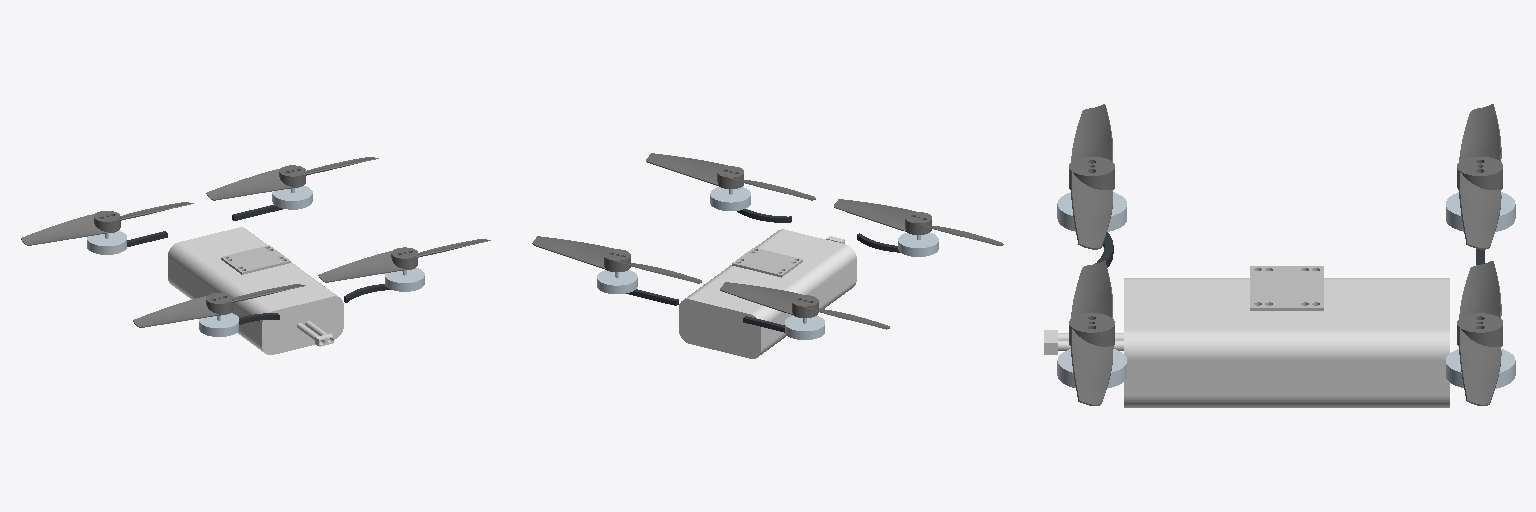
robot.urdf — drone:
<?xml version="1.0" ?>
<!-- Generated using onshape-to-robot -->
<!-- Onshape https://cad.onshape.com/documents/8c10e389dda3d1b6cbe23871/w/5a5746d77355e6e80cdff190/e/a8c47972b1a515a86b80b7ad -->
<robot name="drone">
  <!-- Link drone_frame -->
  <link name="drone_frame">
    <inertial>
      <origin xyz="1.90026e-06 -0.00157144 0.0380665" rpy="0 0 0"/>
      <mass value="0.152078"/>
      <inertia ixx="0.000115231" ixy="1.83252e-08" ixz="-1.57796e-09" iyy="4.83201e-05" iyz="3.25286e-06" izz="0.000140532"/>
    </inertial>
    <!-- Part front_wing -->
    <visual>
      <origin xyz="-0.0275 0.0439768 0.045" rpy="2.88643e-17 -2.79915e-17 5.69411e-19"/>
      <geometry>
        <mesh filename="package://f_drone_simulation/models/f_drone/assets/front_wing.stl"/>
      </geometry>
      <material name="front_wing_material">
        <color rgba="0.262745 0.282353 0.301961 1"/>
      </material>
    </visual>
    <collision>
      <origin xyz="-0.0275 0.0439768 0.045" rpy="2.88643e-17 -2.79915e-17 5.69411e-19"/>
      <geometry>
        <mesh filename="package://f_drone_simulation/models/f_drone/assets/front_wing.stl"/>
      </geometry>
    </collision>
    <!-- Part motor -->
    <visual>
      <origin xyz="-0.042 -0.0441359 0.047" rpy="1.27361e-18 -2.79915e-17 5.69408e-19"/>
      <geometry>
        <mesh filename="package://f_drone_simulation/models/f_drone/assets/motor.stl"/>
      </geometry>
      <material name="motor_material">
        <color rgba="0.811765 0.858824 0.898039 1"/>
      </material>
    </visual>
    <collision>
      <origin xyz="-0.042 -0.0441359 0.047" rpy="1.27361e-18 -2.79915e-17 5.69408e-19"/>
      <geometry>
        <mesh filename="package://f_drone_simulation/models/f_drone/assets/motor.stl"/>
      </geometry>
    </collision>
    <!-- Part motor_2 -->
    <visual>
      <origin xyz="0.042 0.0438641 0.047" rpy="1.91039e-18 -2.79915e-17 1.77888e-16"/>
      <geometry>
        <mesh filename="package://f_drone_simulation/models/f_drone/assets/motor.stl"/>
      </geometry>
      <material name="motor_2_material">
        <color rgba="0.811765 0.858824 0.898039 1"/>
      </material>
    </visual>
    <collision>
      <origin xyz="0.042 0.0438641 0.047" rpy="1.91039e-18 -2.79915e-17 1.77888e-16"/>
      <geometry>
        <mesh filename="package://f_drone_simulation/models/f_drone/assets/motor.stl"/>
      </geometry>
    </collision>
    <!-- Part leg -->
    <visual>
      <origin xyz="-0.0284228 -0.0451679 -0.00251155" rpy="1.5708 6.3681e-19 -1.5708"/>
      <geometry>
        <mesh filename="package://f_drone_simulation/models/f_drone/assets/leg.stl"/>
      </geometry>
      <material name="leg_material">
        <color rgba="0.372549 0.654902 0.239216 1"/>
      </material>
    </visual>
    <collision>
      <origin xyz="-0.0284228 -0.0451679 -0.00251155" rpy="1.5708 6.3681e-19 -1.5708"/>
      <geometry>
        <mesh filename="package://f_drone_simulation/models/f_drone/assets/leg.stl"/>
      </geometry>
    </collision>
    <!-- Part back_wing -->
    <visual>
      <origin xyz="-0.0275 -0.0440232 0.045" rpy="2.88643e-17 -2.79915e-17 5.69411e-19"/>
      <geometry>
        <mesh filename="package://f_drone_simulation/models/f_drone/assets/back_wing.stl"/>
      </geometry>
      <material name="back_wing_material">
        <color rgba="0.262745 0.282353 0.301961 1"/>
      </material>
    </visual>
    <collision>
      <origin xyz="-0.0275 -0.0440232 0.045" rpy="2.88643e-17 -2.79915e-17 5.69411e-19"/>
      <geometry>
        <mesh filename="package://f_drone_simulation/models/f_drone/assets/back_wing.stl"/>
      </geometry>
    </collision>
    <!-- Part motor_3 -->
    <visual>
      <origin xyz="-0.042 0.0438641 0.047" rpy="1.27361e-18 -2.79915e-17 5.69408e-19"/>
      <geometry>
        <mesh filename="package://f_drone_simulation/models/f_drone/assets/motor.stl"/>
      </geometry>
      <material name="motor_3_material">
        <color rgba="0.811765 0.858824 0.898039 1"/>
      </material>
    </visual>
    <collision>
      <origin xyz="-0.042 0.0438641 0.047" rpy="1.27361e-18 -2.79915e-17 5.69408e-19"/>
      <geometry>
        <mesh filename="package://f_drone_simulation/models/f_drone/assets/motor.stl"/>
      </geometry>
    </collision>
    <!-- Part custom_pcb -->
    <visual>
      <origin xyz="1.13217e-18 -1.82206e-18 0.047" rpy="1.98523e-23 -2.79915e-17 5.69408e-19"/>
      <geometry>
        <mesh filename="package://f_drone_simulation/models/f_drone/assets/custom_pcb.stl"/>
      </geometry>
      <material name="custom_pcb_material">
        <color rgba="0.913725 0.647059 0.329412 1"/>
      </material>
    </visual>
    <collision>
      <origin xyz="1.13217e-18 -1.82206e-18 0.047" rpy="1.98523e-23 -2.79915e-17 5.69408e-19"/>
      <geometry>
        <mesh filename="package://f_drone_simulation/models/f_drone/assets/custom_pcb.stl"/>
      </geometry>
    </collision>
    <!-- Part back_wing_2 -->
    <visual>
      <origin xyz="0.0275 -0.0440232 0.047" rpy="3.14159 2.79915e-17 -3.14159"/>
      <geometry>
        <mesh filename="package://f_drone_simulation/models/f_drone/assets/back_wing.stl"/>
      </geometry>
      <material name="back_wing_2_material">
        <color rgba="0.262745 0.282353 0.301961 1"/>
      </material>
    </visual>
    <collision>
      <origin xyz="0.0275 -0.0440232 0.047" rpy="3.14159 2.79915e-17 -3.14159"/>
      <geometry>
        <mesh filename="package://f_drone_simulation/models/f_drone/assets/back_wing.stl"/>
      </geometry>
    </collision>
    <!-- Part leg_2 -->
    <visual>
      <origin xyz="0.0334228 0.0408641 -0.00251155" rpy="1.5708 1.27359e-18 -1.5708"/>
      <geometry>
        <mesh filename="package://f_drone_simulation/models/f_drone/assets/leg.stl"/>
      </geometry>
      <material name="leg_2_material">
        <color rgba="0.372549 0.654902 0.239216 1"/>
      </material>
    </visual>
    <collision>
      <origin xyz="0.0334228 0.0408641 -0.00251155" rpy="1.5708 1.27359e-18 -1.5708"/>
      <geometry>
        <mesh filename="package://f_drone_simulation/models/f_drone/assets/leg.stl"/>
      </geometry>
    </collision>
    <!-- Part drone_frame -->
    <visual>
      <origin xyz="-5.03395e-18 -0.000135894 0.045" rpy="1.01888e-17 -2.23932e-16 4.55532e-18"/>
      <geometry>
        <mesh filename="package://f_drone_simulation/models/f_drone/assets/drone_frame.stl"/>
      </geometry>
      <material name="drone_frame_material">
        <color rgba="0.262745 0.282353 0.301961 1"/>
      </material>
    </visual>
    <collision>
      <origin xyz="-5.03395e-18 -0.000135894 0.045" rpy="1.01888e-17 -2.23932e-16 4.55532e-18"/>
      <geometry>
        <mesh filename="package://f_drone_simulation/models/f_drone/assets/drone_frame.stl"/>
      </geometry>
    </collision>
    <!-- Part mcu -->
    <visual>
      <origin xyz="4.73078e-19 0.0268931 0.04857" rpy="-2.75907e-17 -2.79915e-17 5.69405e-19"/>
      <geometry>
        <mesh filename="package://f_drone_simulation/models/f_drone/assets/mcu.stl"/>
      </geometry>
      <material name="mcu_material">
        <color rgba="0.372549 0.654902 0.239216 1"/>
      </material>
    </visual>
    <collision>
      <origin xyz="4.73078e-19 0.0268931 0.04857" rpy="-2.75907e-17 -2.79915e-17 5.69405e-19"/>
      <geometry>
        <mesh filename="package://f_drone_simulation/models/f_drone/assets/mcu.stl"/>
      </geometry>
    </collision>
    <!-- Part 2s_battery -->
    <visual>
      <origin xyz="-1.50777e-18 1.63604e-18 0.026" rpy="1.98523e-23 -2.79915e-17 5.69408e-19"/>
      <geometry>
        <mesh filename="package://f_drone_simulation/models/f_drone/assets/2s_battery.stl"/>
      </geometry>
      <material name="2s_battery_material">
        <color rgba="0.901961 0.901961 0.901961 1"/>
      </material>
    </visual>
    <collision>
      <origin xyz="-1.50777e-18 1.63604e-18 0.026" rpy="1.98523e-23 -2.79915e-17 5.69408e-19"/>
      <geometry>
        <mesh filename="package://f_drone_simulation/models/f_drone/assets/2s_battery.stl"/>
      </geometry>
    </collision>
    <!-- Part esc -->
    <visual>
      <origin xyz="1.51785e-19 -0.03 0.04857" rpy="-2.75907e-17 -2.79915e-17 5.69405e-19"/>
      <geometry>
        <mesh filename="package://f_drone_simulation/models/f_drone/assets/esc.stl"/>
      </geometry>
      <material name="esc_material">
        <color rgba="0.262745 0.282353 0.301961 1"/>
      </material>
    </visual>
    <collision>
      <origin xyz="1.51785e-19 -0.03 0.04857" rpy="-2.75907e-17 -2.79915e-17 5.69405e-19"/>
      <geometry>
        <mesh filename="package://f_drone_simulation/models/f_drone/assets/esc.stl"/>
      </geometry>
    </collision>
    <!-- Part imu -->
    <visual>
      <origin xyz="3.46389e-19 0.000318293 0.05157" rpy="1.5708 2.64698e-23 -1.5708"/>
      <geometry>
        <mesh filename="package://f_drone_simulation/models/f_drone/assets/imu.stl"/>
      </geometry>
      <material name="imu_material">
        <color rgba="0 0 0.784314 1"/>
      </material>
    </visual>
    <collision>
      <origin xyz="3.46389e-19 0.000318293 0.05157" rpy="1.5708 2.64698e-23 -1.5708"/>
      <geometry>
        <mesh filename="package://f_drone_simulation/models/f_drone/assets/imu.stl"/>
      </geometry>
    </collision>
    <!-- Part front_wing_2 -->
    <visual>
      <origin xyz="0.0275 0.0439768 0.047" rpy="3.14159 2.79915e-17 -3.14159"/>
      <geometry>
        <mesh filename="package://f_drone_simulation/models/f_drone/assets/front_wing.stl"/>
      </geometry>
      <material name="front_wing_2_material">
        <color rgba="0.262745 0.282353 0.301961 1"/>
      </material>
    </visual>
    <collision>
      <origin xyz="0.0275 0.0439768 0.047" rpy="3.14159 2.79915e-17 -3.14159"/>
      <geometry>
        <mesh filename="package://f_drone_simulation/models/f_drone/assets/front_wing.stl"/>
      </geometry>
    </collision>
    <!-- Part leg_3 -->
    <visual>
      <origin xyz="0.0334228 -0.0451679 -0.00251155" rpy="1.5708 1.27359e-18 -1.5708"/>
      <geometry>
        <mesh filename="package://f_drone_simulation/models/f_drone/assets/leg.stl"/>
      </geometry>
      <material name="leg_3_material">
        <color rgba="0.372549 0.654902 0.239216 1"/>
      </material>
    </visual>
    <collision>
      <origin xyz="0.0334228 -0.0451679 -0.00251155" rpy="1.5708 1.27359e-18 -1.5708"/>
      <geometry>
        <mesh filename="package://f_drone_simulation/models/f_drone/assets/leg.stl"/>
      </geometry>
    </collision>
    <!-- Part main001 -->
    <visual>
      <origin xyz="-0.0110515 0.00840087 0.04957" rpy="3.14159 -2.79915e-17 5.69405e-19"/>
      <geometry>
        <mesh filename="package://f_drone_simulation/models/f_drone/assets/main001.stl"/>
      </geometry>
      <material name="main001_material">
        <color rgba="0.8 0.8 0.8 1"/>
      </material>
    </visual>
    <collision>
      <origin xyz="-0.0110515 0.00840087 0.04957" rpy="3.14159 -2.79915e-17 5.69405e-19"/>
      <geometry>
        <mesh filename="package://f_drone_simulation/models/f_drone/assets/main001.stl"/>
      </geometry>
    </collision>
    <!-- Part leg_4 -->
    <visual>
      <origin xyz="-0.0284228 0.0408641 -0.00251155" rpy="1.5708 6.3681e-19 -1.5708"/>
      <geometry>
        <mesh filename="package://f_drone_simulation/models/f_drone/assets/leg.stl"/>
      </geometry>
      <material name="leg_4_material">
        <color rgba="0.372549 0.654902 0.239216 1"/>
      </material>
    </visual>
    <collision>
      <origin xyz="-0.0284228 0.0408641 -0.00251155" rpy="1.5708 6.3681e-19 -1.5708"/>
      <geometry>
        <mesh filename="package://f_drone_simulation/models/f_drone/assets/leg.stl"/>
      </geometry>
    </collision>
    <!-- Part motor_4 -->
    <visual>
      <origin xyz="0.042 -0.0441359 0.047" rpy="1.91039e-18 -2.79915e-17 1.77888e-16"/>
      <geometry>
        <mesh filename="package://f_drone_simulation/models/f_drone/assets/motor.stl"/>
      </geometry>
      <material name="motor_4_material">
        <color rgba="0.811765 0.858824 0.898039 1"/>
      </material>
    </visual>
    <collision>
      <origin xyz="0.042 -0.0441359 0.047" rpy="1.91039e-18 -2.79915e-17 1.77888e-16"/>
      <geometry>
        <mesh filename="package://f_drone_simulation/models/f_drone/assets/motor.stl"/>
      </geometry>
    </collision>
  </link>
  <!-- Frame base_link (dummy link + fixed joint) -->
  <link name="base_link">
    <origin xyz="0 0 0" rpy="0 -0 0"/>
    <inertial>
      <origin xyz="0 0 0" rpy="0 0 0"/>
      <mass value="1e-9"/>
      <inertia ixx="0" ixy="0" ixz="0" iyy="0" iyz="0" izz="0"/>
    </inertial>
  </link>
  <joint name="base_link_frame" type="fixed">
    <origin xyz="4.27546e-19 1.50726e-19 0.04857" rpy="1.98523e-23 -2.79915e-17 5.69408e-19"/>
    <parent link="drone_frame"/>
    <child link="base_link"/>
    <axis xyz="0 0 0"/>
  </joint>
  <!-- Link prop -->
  <link name="prop">
    <inertial>
      <origin xyz="3.77138e-15 1.04879e-15 -9.46113e-05" rpy="0 0 0"/>
      <mass value="0.000758683"/>
      <inertia ixx="6.58743e-09" ixy="1.73562e-09" ixz="0" iyy="1.27556e-07" iyz="0" izz="1.31648e-07"/>
    </inertial>
    <!-- Part prop -->
    <visual>
      <origin xyz="0 -6.93889e-18 0" rpy="1.5708 -0 -2.86726e-34"/>
      <geometry>
        <mesh filename="package://f_drone_simulation/models/f_drone/assets/prop.stl"/>
      </geometry>
      <material name="prop_material">
        <color rgba="0.501961 0.501961 0.501961 1"/>
      </material>
    </visual>
    <collision>
      <origin xyz="0 -6.93889e-18 0" rpy="1.5708 -0 -2.86726e-34"/>
      <geometry>
        <mesh filename="package://f_drone_simulation/models/f_drone/assets/prop.stl"/>
      </geometry>
    </collision>
  </link>
  <!-- Joint from drone_frame to prop -->
  <joint name="motor_prop_1" type="revolute">
    <origin xyz="-0.042 -0.0442159 0.057625" rpy="8.78666e-17 -6.99788e-17 3.69828e-18"/>
    <parent link="drone_frame"/>
    <child link="prop"/>
    <axis xyz="0 0 1"/>
    <limit effort="10" velocity="10" lower="-3.141592653589793" upper="3.141592653589793"/>
  </joint>
  <!-- Link prop_2 -->
  <link name="prop_2">
    <inertial>
      <origin xyz="3.77138e-15 1.06267e-15 -9.46113e-05" rpy="0 0 0"/>
      <mass value="0.000758683"/>
      <inertia ixx="6.58743e-09" ixy="1.73562e-09" ixz="0" iyy="1.27556e-07" iyz="0" izz="1.31648e-07"/>
    </inertial>
    <!-- Part prop_2 -->
    <visual>
      <origin xyz="0 6.93889e-18 0" rpy="1.5708 -0 1.33312e-34"/>
      <geometry>
        <mesh filename="package://f_drone_simulation/models/f_drone/assets/prop.stl"/>
      </geometry>
      <material name="prop_2_material">
        <color rgba="0.501961 0.501961 0.501961 1"/>
      </material>
    </visual>
    <collision>
      <origin xyz="0 6.93889e-18 0" rpy="1.5708 -0 1.33312e-34"/>
      <geometry>
        <mesh filename="package://f_drone_simulation/models/f_drone/assets/prop.stl"/>
      </geometry>
    </collision>
  </link>
  <!-- Joint from drone_frame to prop_2 -->
  <joint name="motor_prop_2" type="revolute">
    <origin xyz="-0.042 0.0437841 0.057625" rpy="3.01379e-17 -4.19873e-17 1.61237e-18"/>
    <parent link="drone_frame"/>
    <child link="prop_2"/>
    <axis xyz="0 0 1"/>
    <limit effort="10" velocity="10" lower="-3.141592653589793" upper="3.141592653589793"/>
  </joint>
  <!-- Link prop_3 -->
  <link name="prop_3">
    <inertial>
      <origin xyz="3.77138e-15 1.04879e-15 -9.46113e-05" rpy="0 0 0"/>
      <mass value="0.000758683"/>
      <inertia ixx="6.58743e-09" ixy="1.73562e-09" ixz="0" iyy="1.27556e-07" iyz="0" izz="1.31648e-07"/>
    </inertial>
    <!-- Part prop_3 -->
    <visual>
      <origin xyz="0 -6.93889e-18 0" rpy="1.5708 -0 2.23082e-32"/>
      <geometry>
        <mesh filename="package://f_drone_simulation/models/f_drone/assets/prop.stl"/>
      </geometry>
      <material name="prop_3_material">
        <color rgba="0.501961 0.501961 0.501961 1"/>
      </material>
    </visual>
    <collision>
      <origin xyz="0 -6.93889e-18 0" rpy="1.5708 -0 2.23082e-32"/>
      <geometry>
        <mesh filename="package://f_drone_simulation/models/f_drone/assets/prop.stl"/>
      </geometry>
    </collision>
  </link>
  <!-- Joint from drone_frame to prop_3 -->
  <joint name="motor_prop_3" type="revolute">
    <origin xyz="0.042 -0.0442159 0.057625" rpy="3.07747e-17 -4.19873e-17 1.78931e-16"/>
    <parent link="drone_frame"/>
    <child link="prop_3"/>
    <axis xyz="0 0 1"/>
    <limit effort="10" velocity="10" lower="-3.141592653589793" upper="3.141592653589793"/>
  </joint>
  <!-- Link prop_4 -->
  <link name="prop_4">
    <inertial>
      <origin xyz="3.77138e-15 1.06267e-15 -9.46113e-05" rpy="0 0 0"/>
      <mass value="0.000758683"/>
      <inertia ixx="6.58743e-09" ixy="1.73562e-09" ixz="0" iyy="1.27556e-07" iyz="0" izz="1.31648e-07"/>
    </inertial>
    <!-- Part prop_4 -->
    <visual>
      <origin xyz="0 6.93889e-18 0" rpy="1.5708 -0 2.23082e-32"/>
      <geometry>
        <mesh filename="package://f_drone_simulation/models/f_drone/assets/prop.stl"/>
      </geometry>
      <material name="prop_4_material">
        <color rgba="0.501961 0.501961 0.501961 1"/>
      </material>
    </visual>
    <collision>
      <origin xyz="0 6.93889e-18 0" rpy="1.5708 -0 2.23082e-32"/>
      <geometry>
        <mesh filename="package://f_drone_simulation/models/f_drone/assets/prop.stl"/>
      </geometry>
    </collision>
  </link>
  <!-- Joint from drone_frame to prop_4 -->
  <joint name="motor_prop_4" type="revolute">
    <origin xyz="0.042 0.0437841 0.057625" rpy="3.07747e-17 -4.19873e-17 1.78931e-16"/>
    <parent link="drone_frame"/>
    <child link="prop_4"/>
    <axis xyz="0 0 1"/>
    <limit effort="10" velocity="10" lower="-3.141592653589793" upper="3.141592653589793"/>
  </joint>
</robot>

--- Render facts (derived) ---
The picture shows the robot from 3 angles, left to right: view 1: azimuth 30°, elevation 25°; view 2: azimuth 150°, elevation 25°; view 3: azimuth 270°, elevation 25°; orthographic projection.
Model drone with 6 links and 5 joints (4 revolute, 1 fixed), rooted at drone_frame, posed all joints at 0.
Visible links, largest first — view 1: drone_frame, prop, prop_4, prop_2, prop_3; view 2: drone_frame, prop_2, prop_4, prop, prop_3; view 3: drone_frame, prop_2, prop_4, prop, prop_3.
Boxes of the visible links, bbox=[...] form: drone_frame: bbox=[87, 186, 424, 354]; prop: bbox=[133, 284, 305, 327]; prop_4: bbox=[206, 157, 378, 200]; prop_2: bbox=[21, 202, 193, 245]; prop_3: bbox=[318, 239, 490, 282]; drone_frame: bbox=[597, 187, 938, 358]; prop_2: bbox=[720, 282, 889, 329]; prop_4: bbox=[532, 236, 701, 283]; prop: bbox=[834, 199, 1003, 245]; prop_3: bbox=[646, 153, 815, 200]; drone_frame: bbox=[1044, 192, 1515, 407]; prop_2: bbox=[1457, 104, 1502, 249]; prop_4: bbox=[1457, 261, 1502, 405]; prop: bbox=[1069, 104, 1114, 249]; prop_3: bbox=[1069, 260, 1114, 405].
Size in the robot's own frame: 0.159 by 0.1068 by 0.0341 metres.
14 mesh visuals loaded from 12 distinct referenced files (6 binary STL); not drawn: 9 (reference not matched to a file when rendering).
